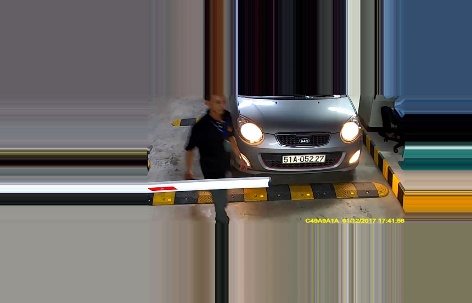plate: (281, 150, 327, 165)
